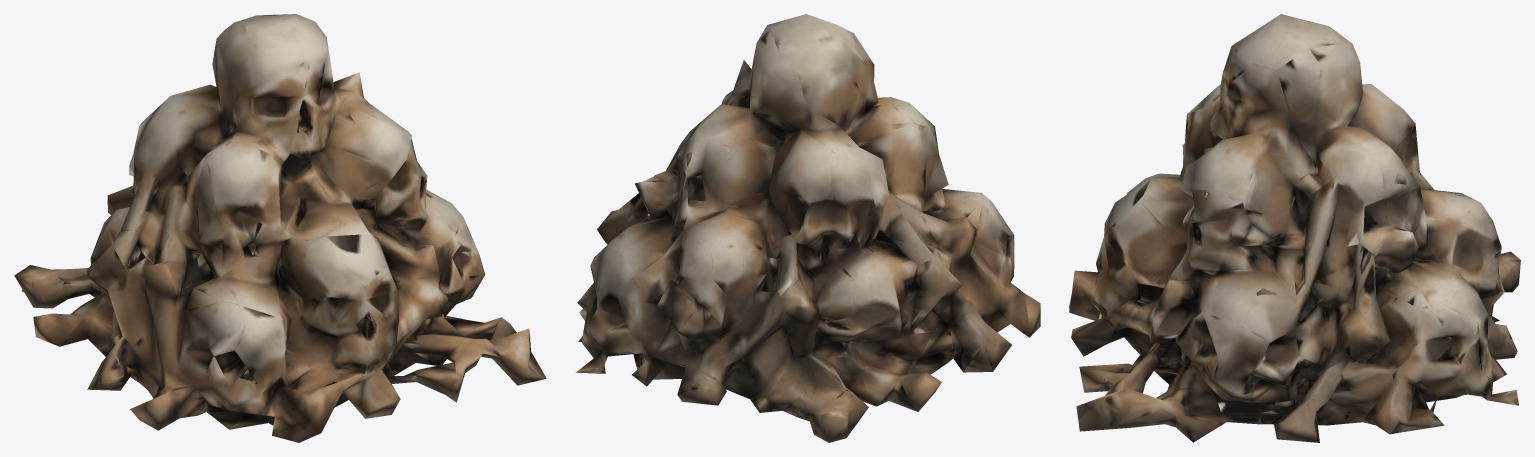
Rendered from bone_pile.glb.
The picture shows the model from 3 angles, left to right: view 1: azimuth 30°, elevation 25°; view 2: azimuth 150°, elevation 25°; view 3: azimuth 270°, elevation 25°; orthographic projection. The views are drawn at different scales.
Size of the model in its own units: 1.99 by 1.6 by 1.99.
1 material, 1 textured.
